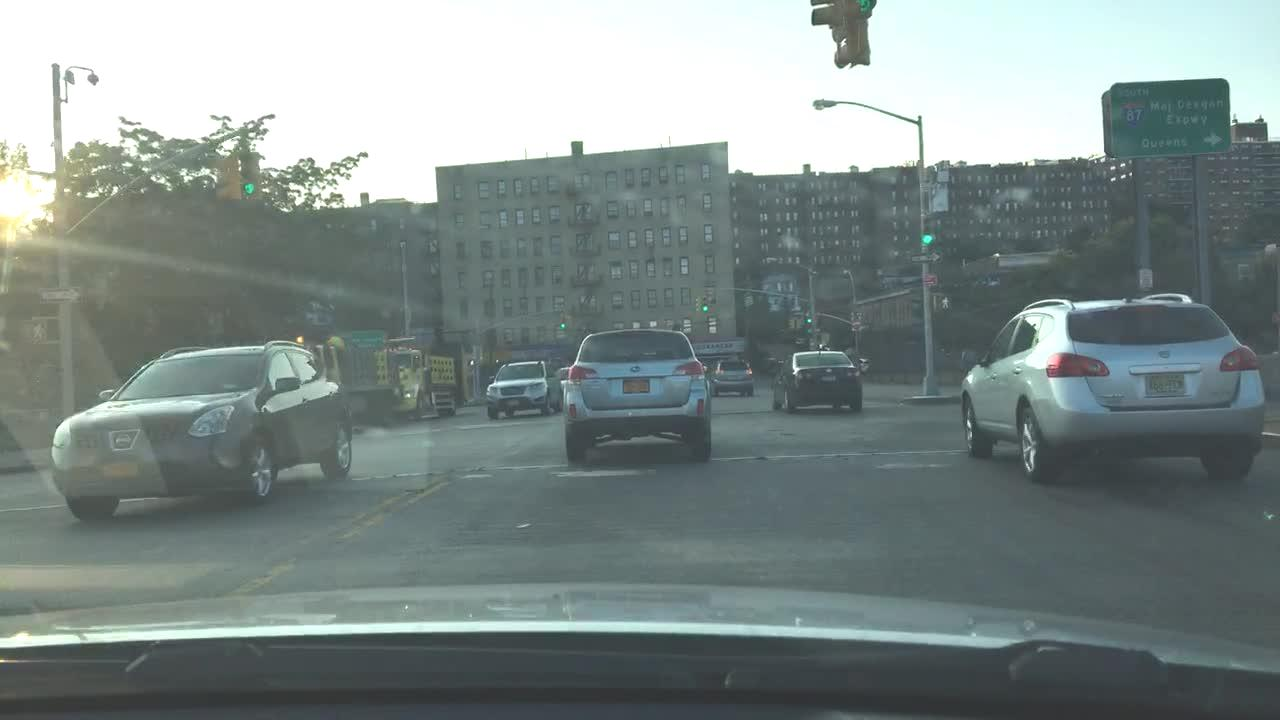Nissan: (111, 427, 132, 453)
